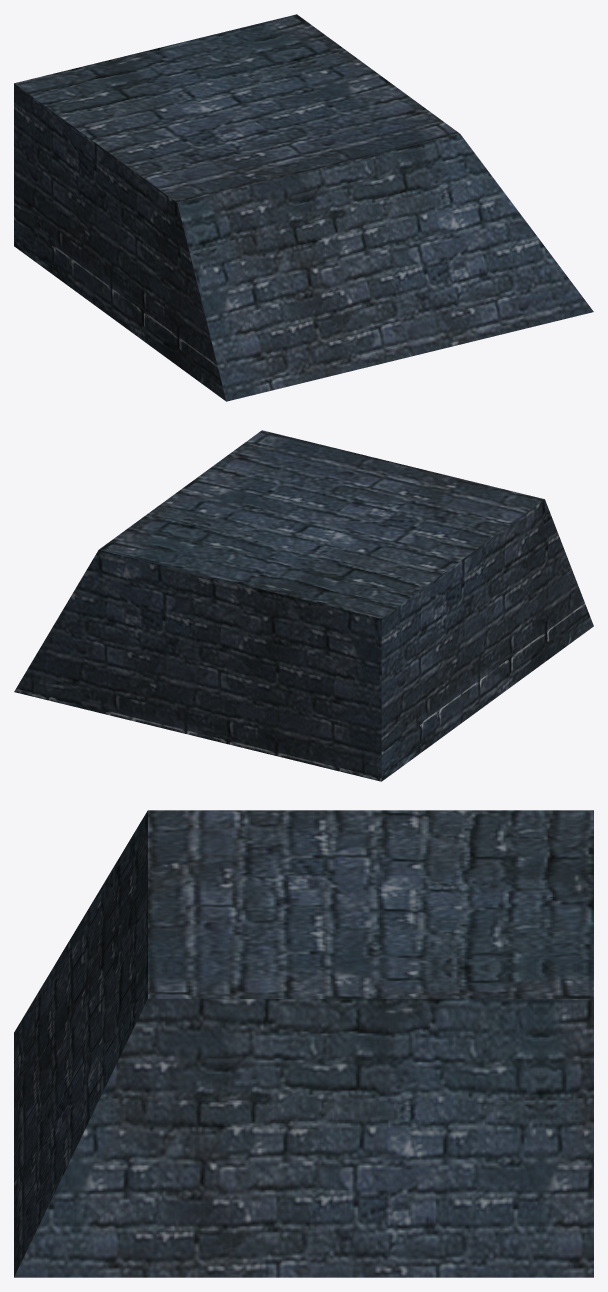
3 views of the same model, one above another, from view 1: azimuth 30°, elevation 25°; view 2: azimuth 150°, elevation 25°; view 3: azimuth 270°, elevation 25° (orthographic). The views are drawn at different scales.
Visible parts, largest first — view 1: xs_wj19; view 2: xs_wj19; view 3: xs_wj19.
Boxes of the visible parts, x1=… form: xs_wj19: x1=14, y1=14, x2=593, y2=401; xs_wj19: x1=14, y1=430, x2=593, y2=781; xs_wj19: x1=14, y1=810, x2=593, y2=1277.
Bounding box in the file's own units: 660 × 279 × 660.
Materials: 1 (1 with a texture image).
